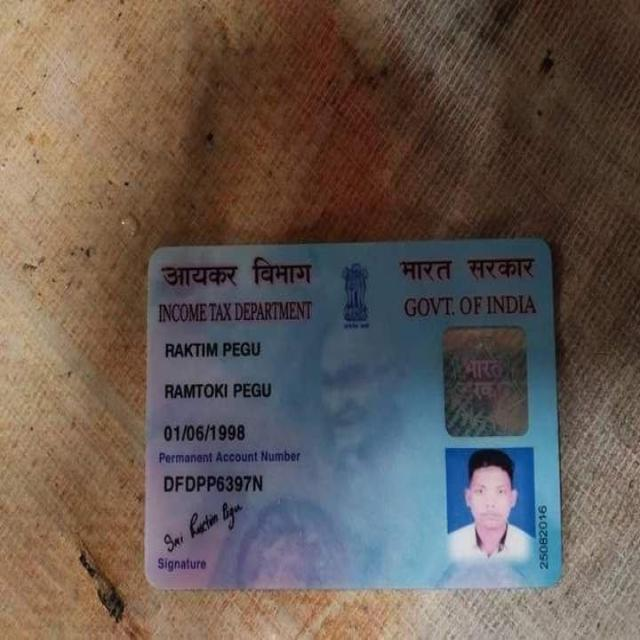pan_card: (155, 249, 552, 582)
